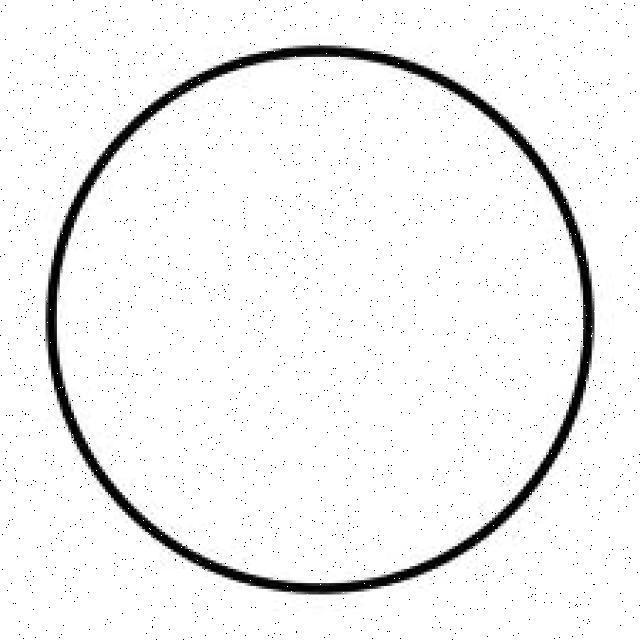Circle: (46, 46, 594, 592)
